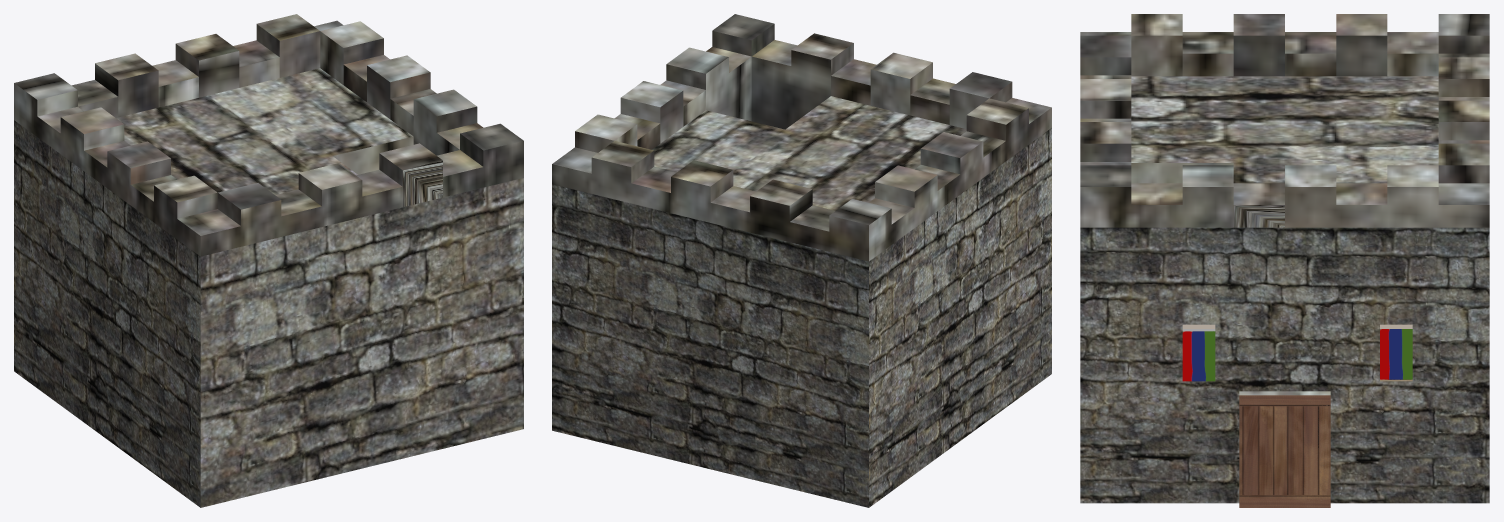
The model's file is bul_civ_cen.dae.
3 views of the same model, side by side, from view 1: azimuth 30°, elevation 25°; view 2: azimuth 150°, elevation 25°; view 3: azimuth 270°, elevation 25° (orthographic). The views are drawn at different scales.
Parts seen in each view (by area): view 1: kallanka; view 2: kallanka; view 3: kallanka.
Boxes of the visible parts, x1,y1,x2,y2 form: kallanka: (14,14,523,507); kallanka: (552,14,1051,507); kallanka: (1080,14,1489,507).
Size of the model in its own units: 25.65 by 25.01 by 22.91.
1 material, 1 textured.
